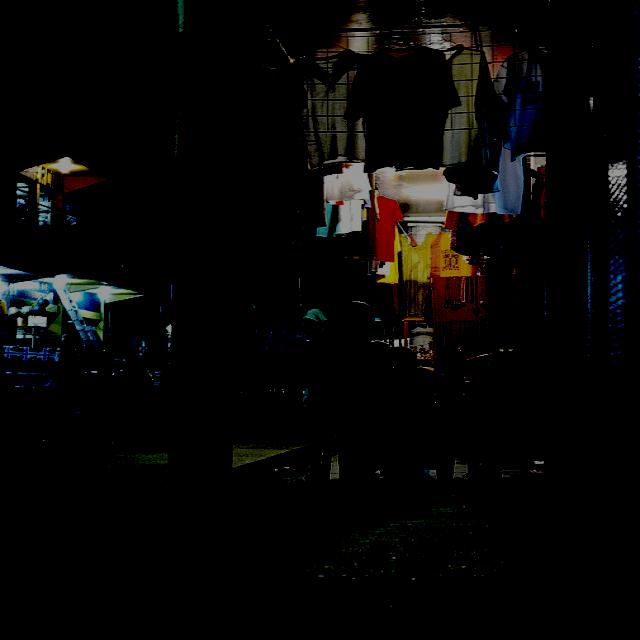Dog: (38, 519, 293, 604)
